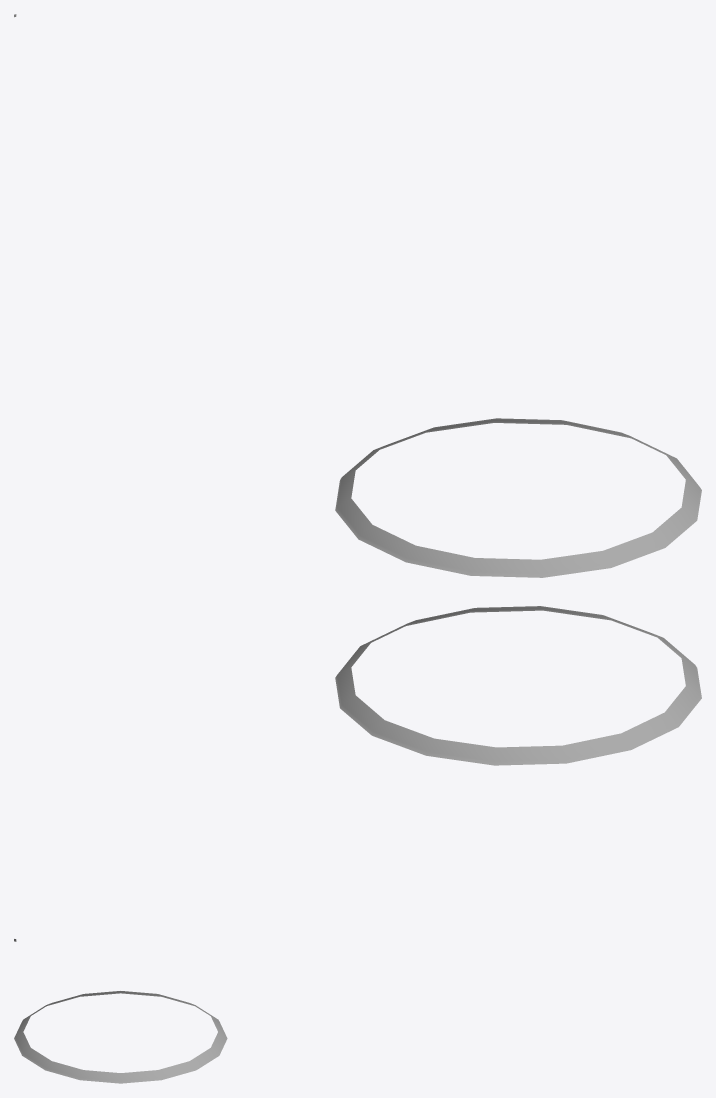
File: AlarmClock_4_AlarmClock_4_0_GeomSubset_2.obj
3 renders of one model, top to bottom at view 1: azimuth 30°, elevation 25°; view 2: azimuth 150°, elevation 25°; view 3: azimuth 270°, elevation 25°, orthographic. The views are drawn at different scales.
Parts seen in each view (by area): view 1: AlarmClock_4_AlarmClock_4_0_GeomSubset_2; view 2: AlarmClock_4_AlarmClock_4_0_GeomSubset_2; view 3: AlarmClock_4_AlarmClock_4_0_GeomSubset_2.
Boxes of the visible parts, x1,y1,x2,y2 form: AlarmClock_4_AlarmClock_4_0_GeomSubset_2: [14, 14, 701, 577]; AlarmClock_4_AlarmClock_4_0_GeomSubset_2: [14, 606, 701, 941]; AlarmClock_4_AlarmClock_4_0_GeomSubset_2: [14, 991, 227, 1083].
Bounding box in the file's own units: 0.1288 × 0.0452 × 0.415.
